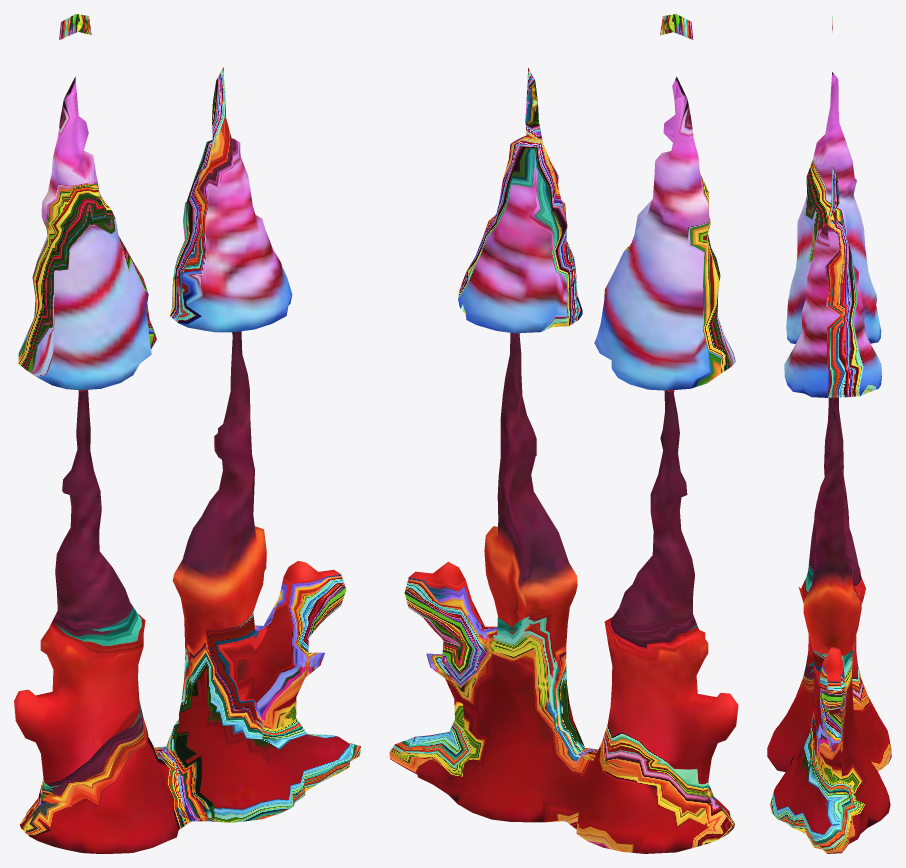
3 views of the same model, side by side, from view 1: azimuth 30°, elevation 25°; view 2: azimuth 150°, elevation 25°; view 3: azimuth 270°, elevation 25° (orthographic). The views are drawn at different scales.
Parts seen in each view (by area): view 1: model.007; view 2: model.007; view 3: model.007.
Part boxes in pixels (box(x1,y1,x2,y2)): model.007: box(14, 14, 360, 853); model.007: box(389, 14, 738, 853); model.007: box(767, 15, 891, 853).
Size of the model in its own units: 0.4292 by 0.9904 by 0.1527.
Materials: 1 (1 with a texture image).
